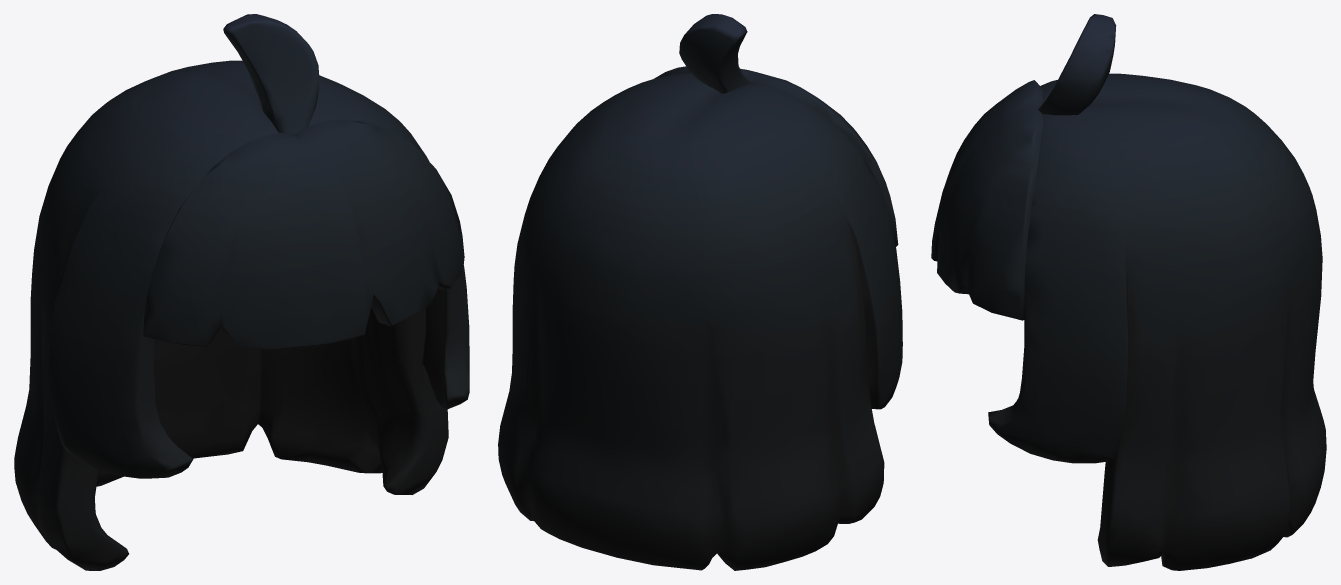
Rendered from SM_HAIR_HimeCut.fbx.
The picture shows the model from 3 angles, left to right: view 1: azimuth 30°, elevation 25°; view 2: azimuth 150°, elevation 25°; view 3: azimuth 270°, elevation 25°; orthographic projection. The views are drawn at different scales.
Parts seen in each view (by area): view 1: HAIR_HimeCut; view 2: HAIR_HimeCut; view 3: HAIR_HimeCut.
Part boxes in pixels (left/top/right/bottom): HAIR_HimeCut: left=14, top=14, right=469, bottom=570; HAIR_HimeCut: left=498, top=14, right=902, bottom=570; HAIR_HimeCut: left=931, top=14, right=1326, bottom=570.
Size of the model in its own units: 66.74 by 85.15 by 63.73.
1 material, 1 textured.
